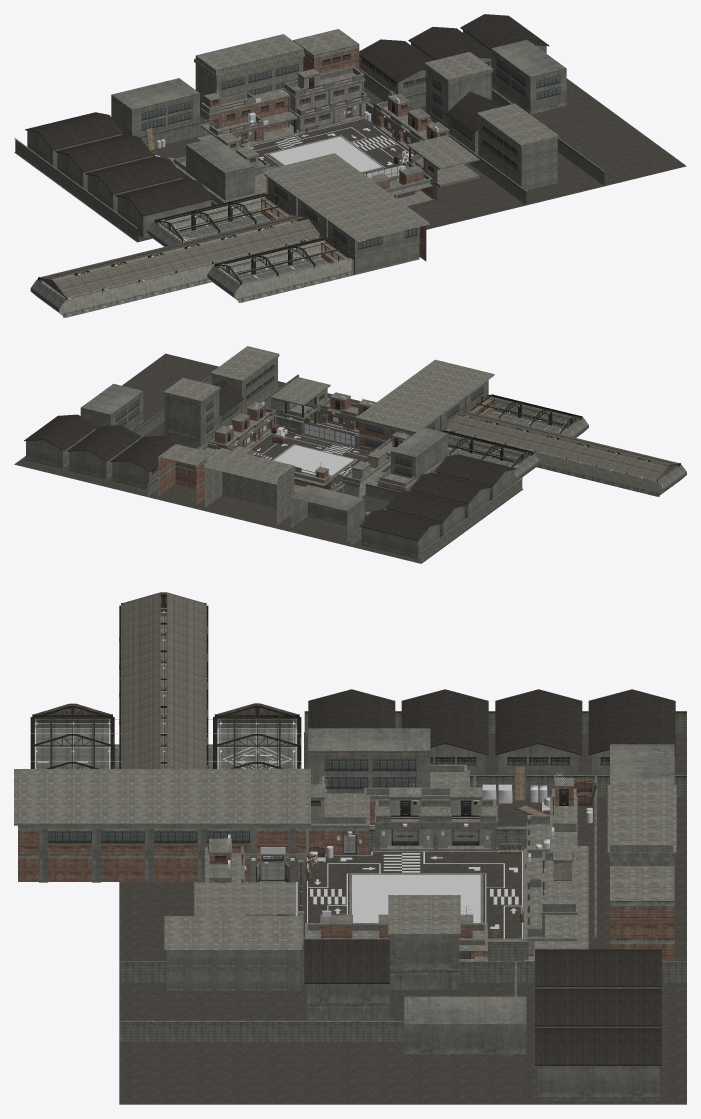
Rendered from Tutorial_World.obj.
The picture shows the model from 3 angles, top to bottom: view 1: azimuth 30°, elevation 25°; view 2: azimuth 150°, elevation 25°; view 3: azimuth 270°, elevation 25°; orthographic projection. The views are drawn at different scales.
Visible parts, largest first — view 1: Tutorial_Mode_level, Tutorial_Mode_Object, Tutorial_Mode_alpha; view 2: Tutorial_Mode_level, Tutorial_Mode_Object, Tutorial_Mode_alpha; view 3: Tutorial_Mode_level, Tutorial_Mode_Object, Tutorial_Mode_alpha.
Boxes of the visible parts, x1=… form: Tutorial_Mode_level: x1=14, y1=14, x2=686, y2=317; Tutorial_Mode_Object: x1=31, y1=88, x2=438, y2=298; Tutorial_Mode_alpha: x1=57, y1=118, x2=410, y2=298; Tutorial_Mode_level: x1=14, y1=346, x2=686, y2=563; Tutorial_Mode_Object: x1=223, y1=396, x2=677, y2=509; Tutorial_Mode_alpha: x1=246, y1=411, x2=664, y2=485; Tutorial_Mode_level: x1=14, y1=592, x2=686, y2=1104; Tutorial_Mode_Object: x1=31, y1=608, x2=592, y2=922; Tutorial_Mode_alpha: x1=35, y1=607, x2=523, y2=938.
Bounding box in the file's own units: 123 × 11.41 × 73.16.
